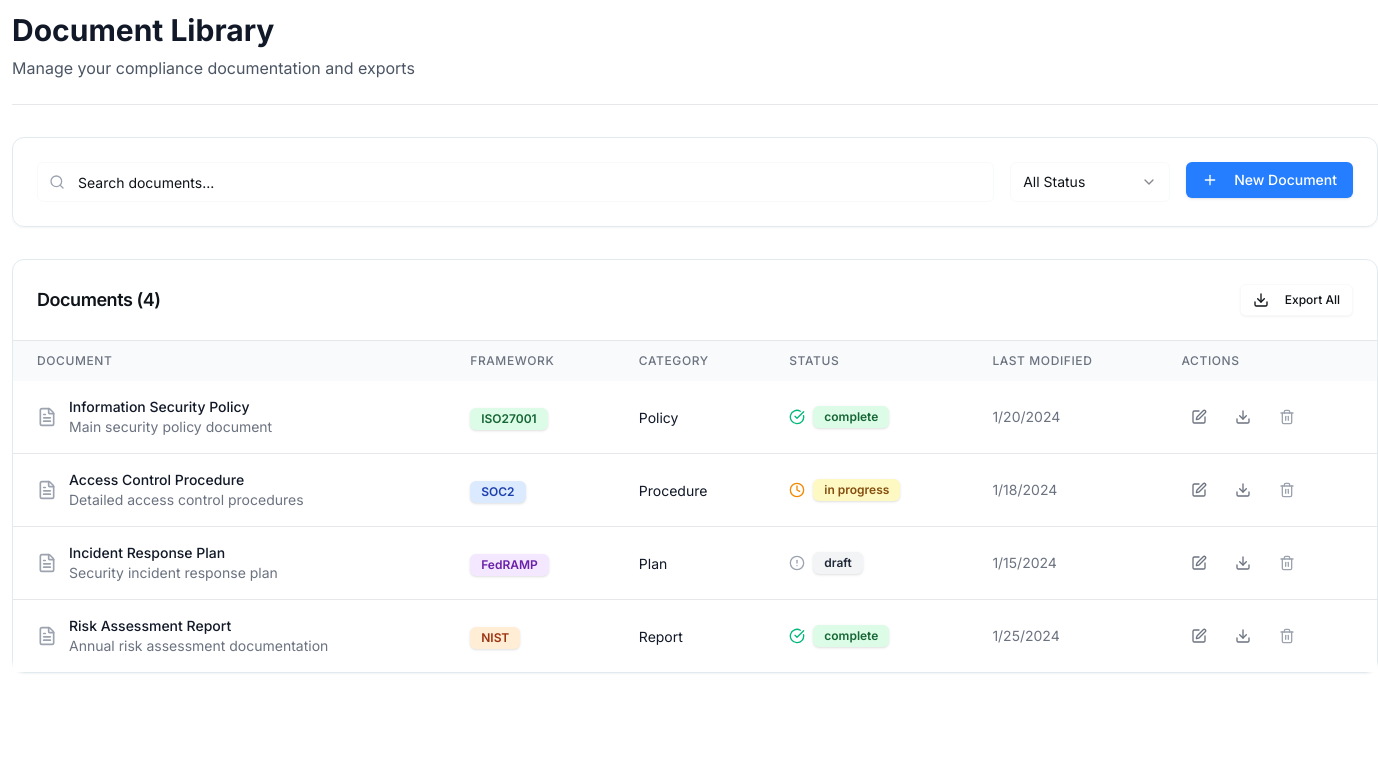
Documents Page › Status Filter › should filter documents by draft status
Click the dropdown with test id "select-status-filter" at [1090, 182], box [1010,162,1170,202]
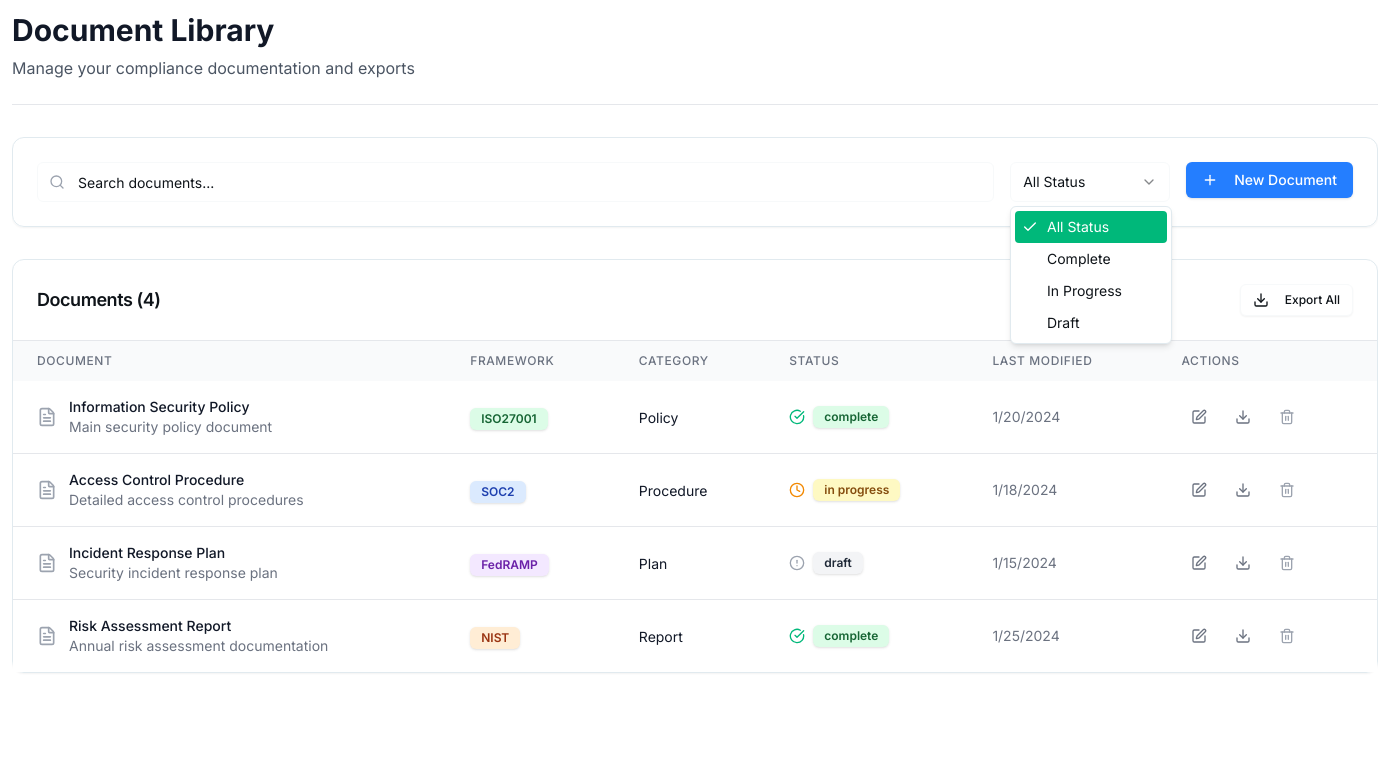
Click the option "Draft" at [1063, 322], box [1047,314,1080,331]
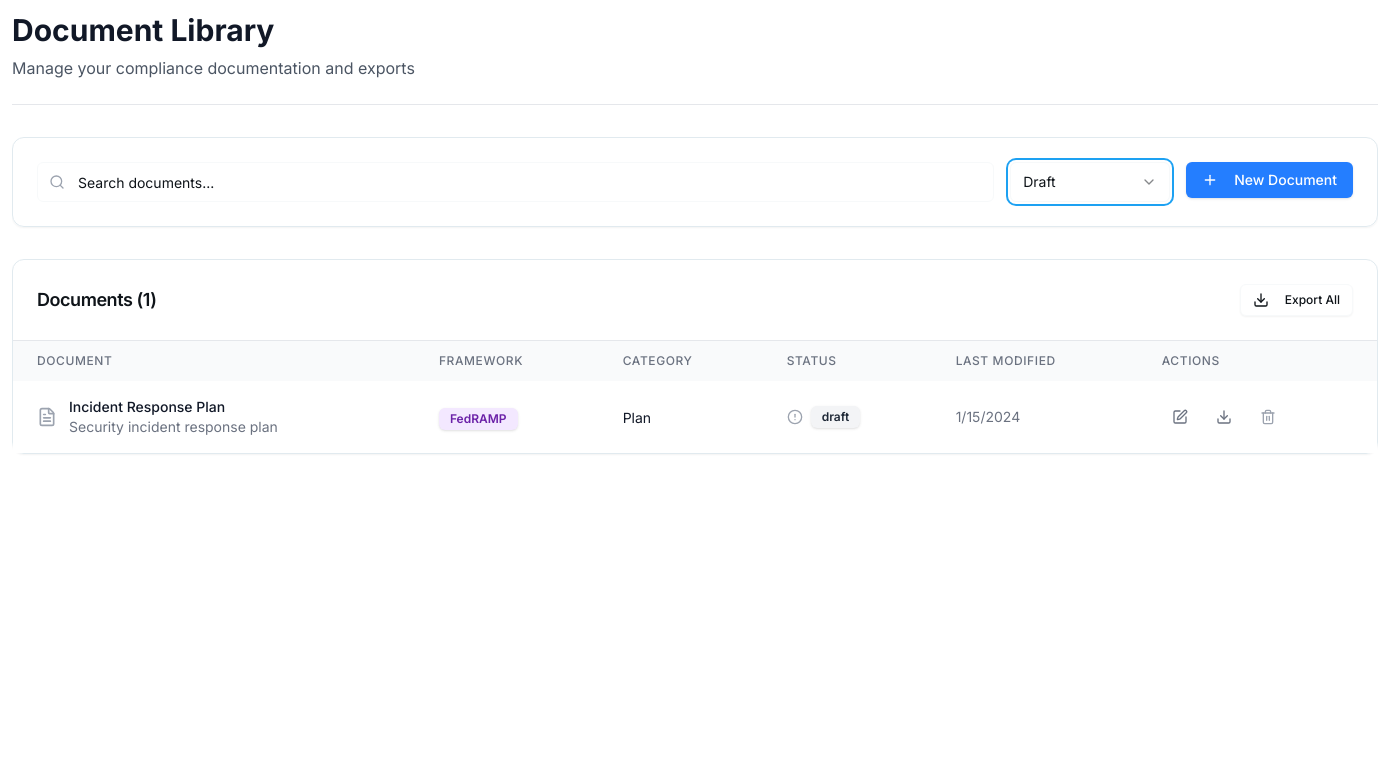
Expected: the text "Information Security Policy" is gone
Expected: the text "Documents (1)" is shown, [37,286,156,314]
